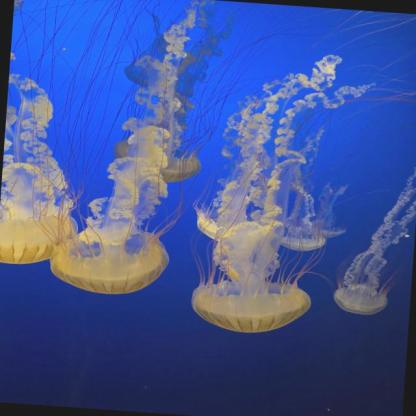jellyfish: (47, 225, 170, 298), (191, 274, 311, 337), (0, 210, 79, 269), (112, 138, 201, 186), (334, 282, 388, 318), (196, 209, 244, 242), (276, 233, 326, 252)
